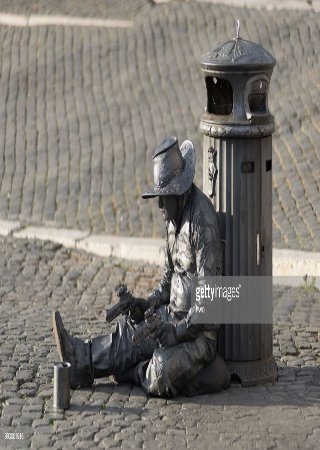handgun: (106, 281, 142, 325)
